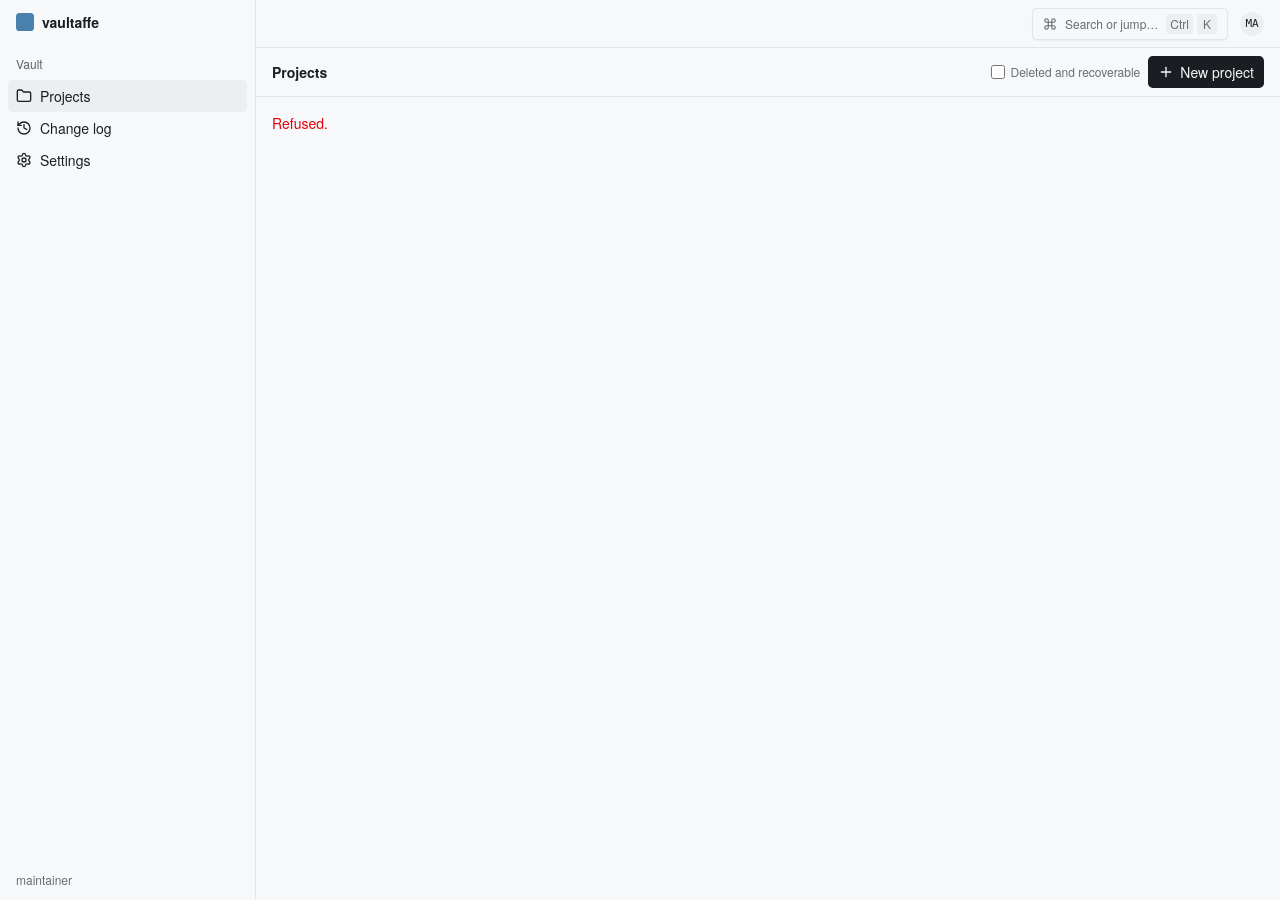
Test case: the palette › has nothing in it that could reach a value
Click the button "Search or jump… Ctrl K" at {"x": 1130, "y": 24}, box [1032,8,1228,40]
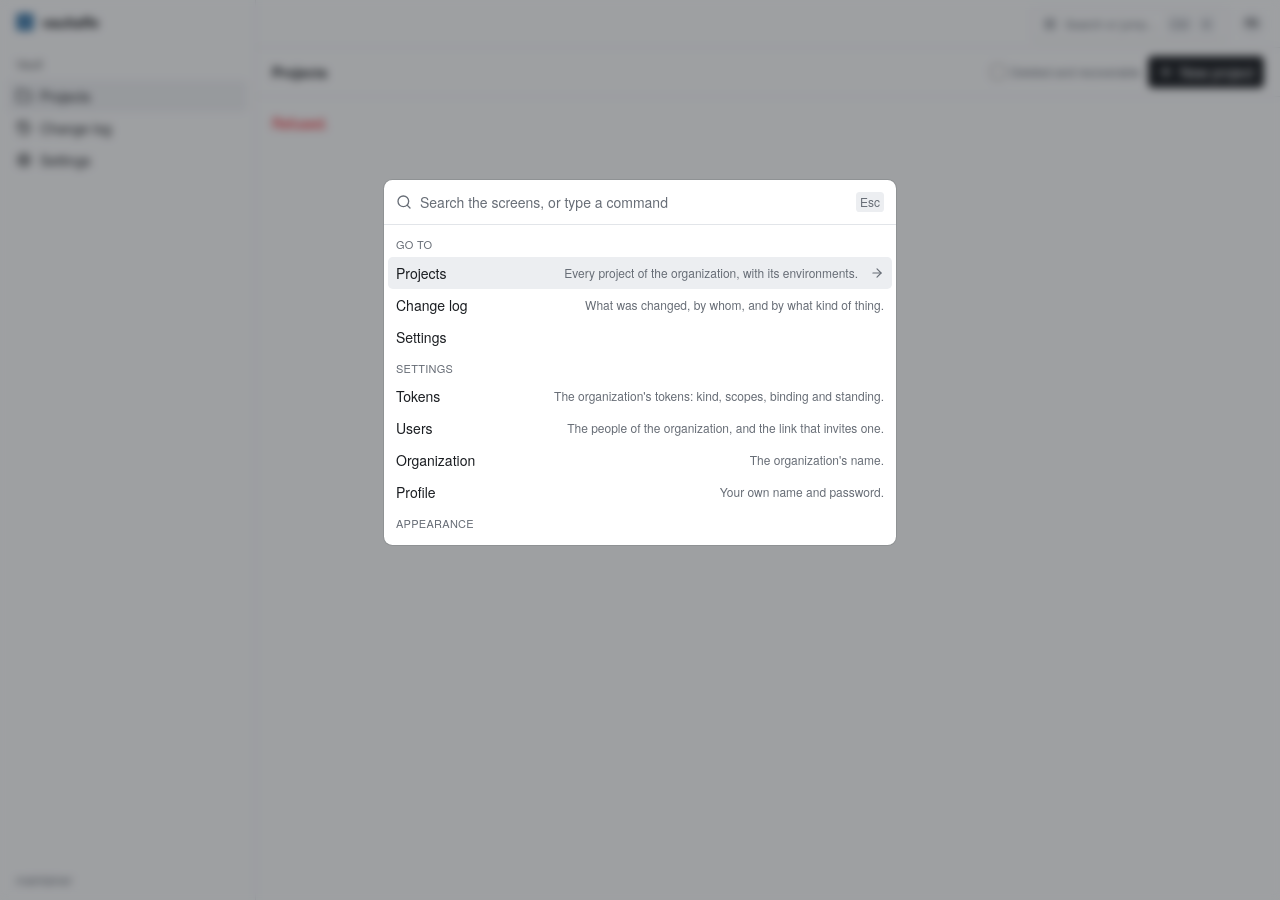
Type "reveal" into the dropdown at {"x": 634, "y": 202}, box [420,180,848,224]
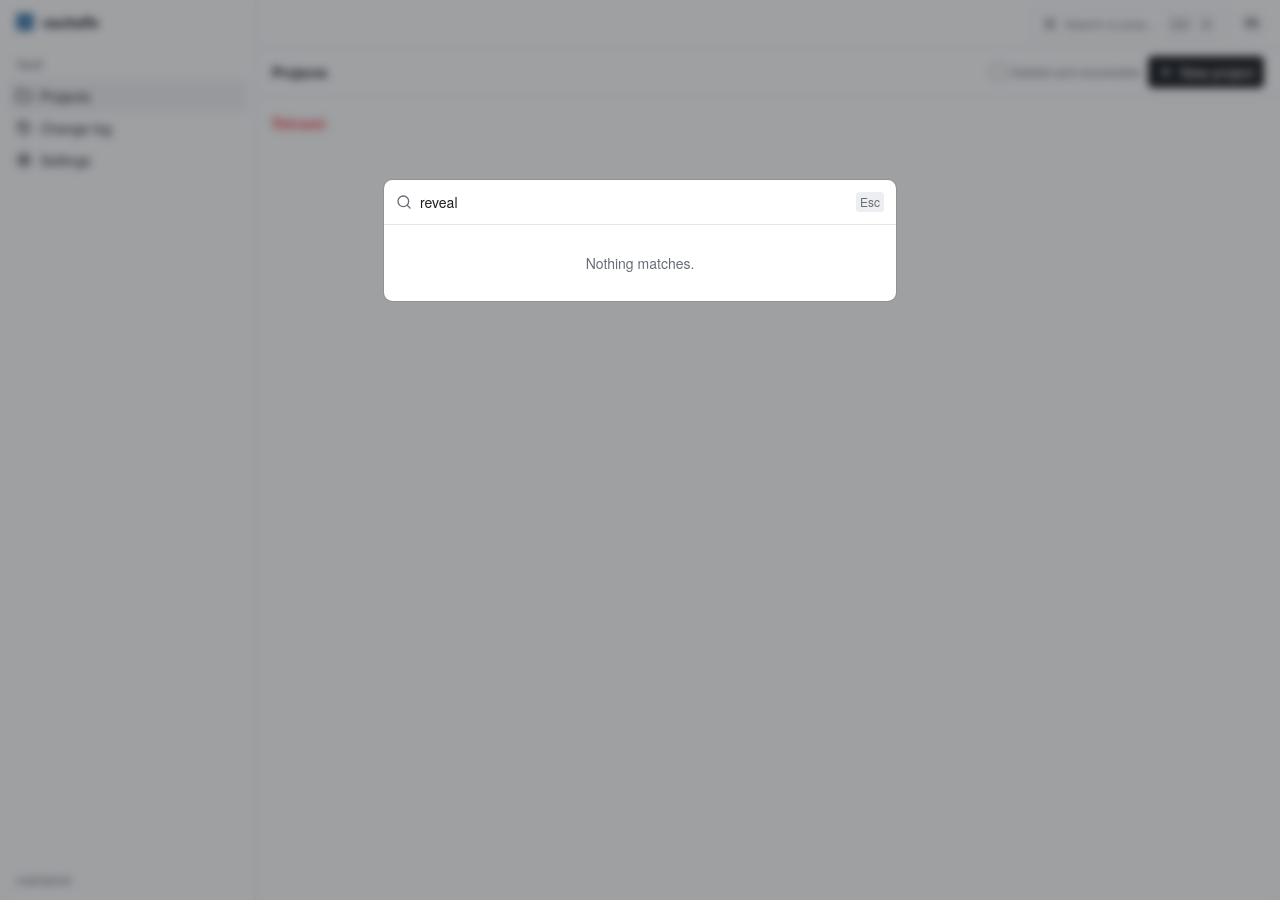
Expected: the list item "Nothing matches." is shown, [586,253,694,273]
